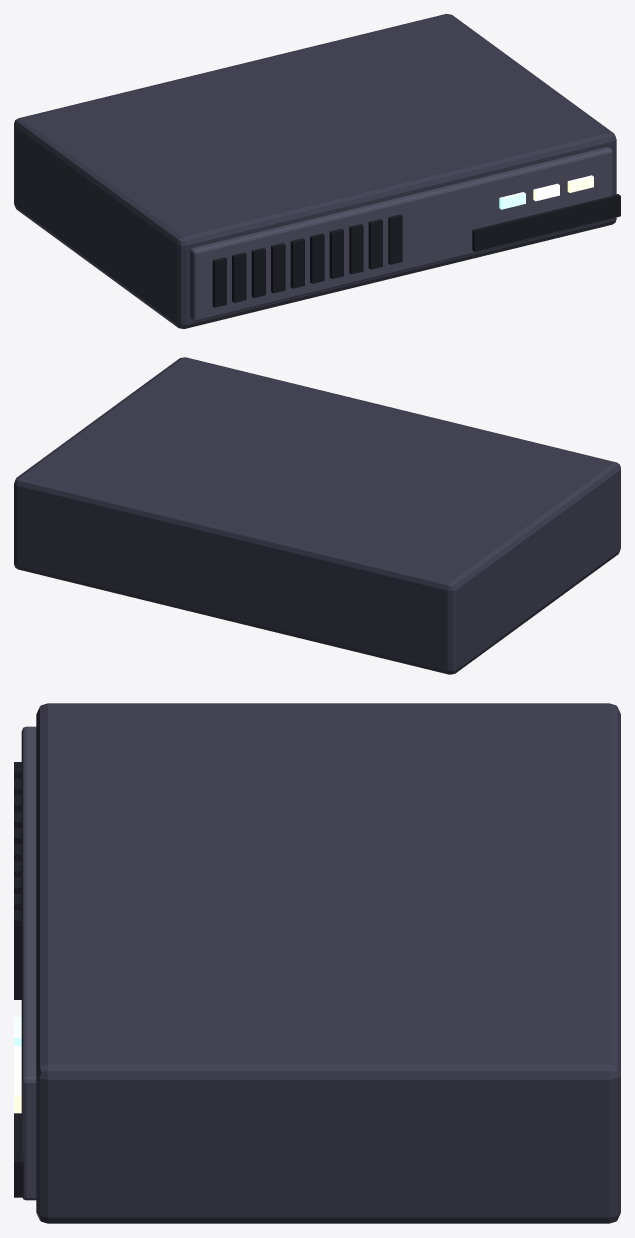
File: appliance.glb
The picture shows the model from 3 angles, top to bottom: view 1: azimuth 30°, elevation 25°; view 2: azimuth 150°, elevation 25°; view 3: azimuth 270°, elevation 25°; orthographic projection. The views are drawn at different scales.
Visible parts, largest first — view 1: appliance; view 2: appliance; view 3: appliance.
Boxes of the visible parts, <box> form: appliance: <box>14,14,620,328</box>; appliance: <box>14,357,620,674</box>; appliance: <box>14,703,620,1223</box>.
Bounding box in the file's own units: 1 × 0.2 × 0.6922.
